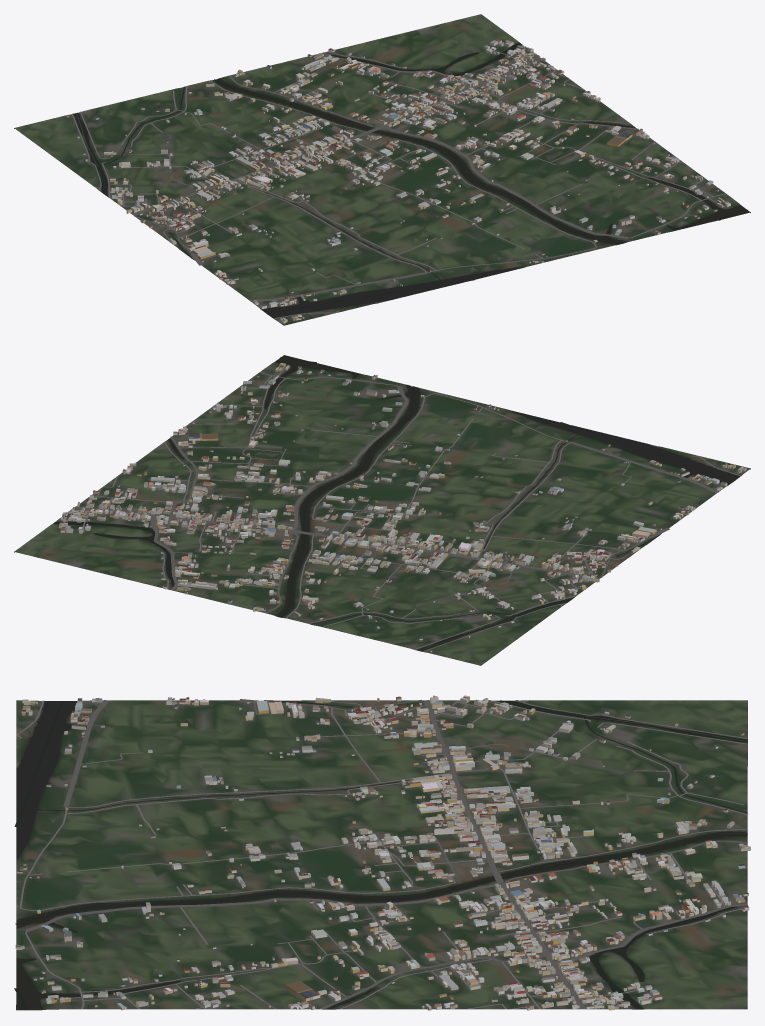
3 views of the same model, one above another, from view 1: azimuth 30°, elevation 25°; view 2: azimuth 150°, elevation 25°; view 3: azimuth 270°, elevation 25° (orthographic). The views are drawn at different scales.
Parts seen in each view (by area): view 1: ground, buildings, roads, water; view 2: ground, buildings, roads, water; view 3: ground, buildings, roads, water.
Boxes of the visible parts, x1,y1,x2,y2 form: ground: (14, 14, 750, 325); buildings: (67, 39, 730, 323); roads: (71, 50, 726, 318); water: (73, 42, 749, 318); ground: (14, 355, 750, 665); buildings: (59, 363, 746, 652); roads: (74, 366, 740, 651); water: (53, 355, 739, 651); ground: (16, 700, 747, 1010); buildings: (15, 695, 750, 1010); roads: (16, 699, 747, 1009); water: (14, 700, 747, 1009).
Size of the model in its own units: 1413 by 19.03 by 1411.
